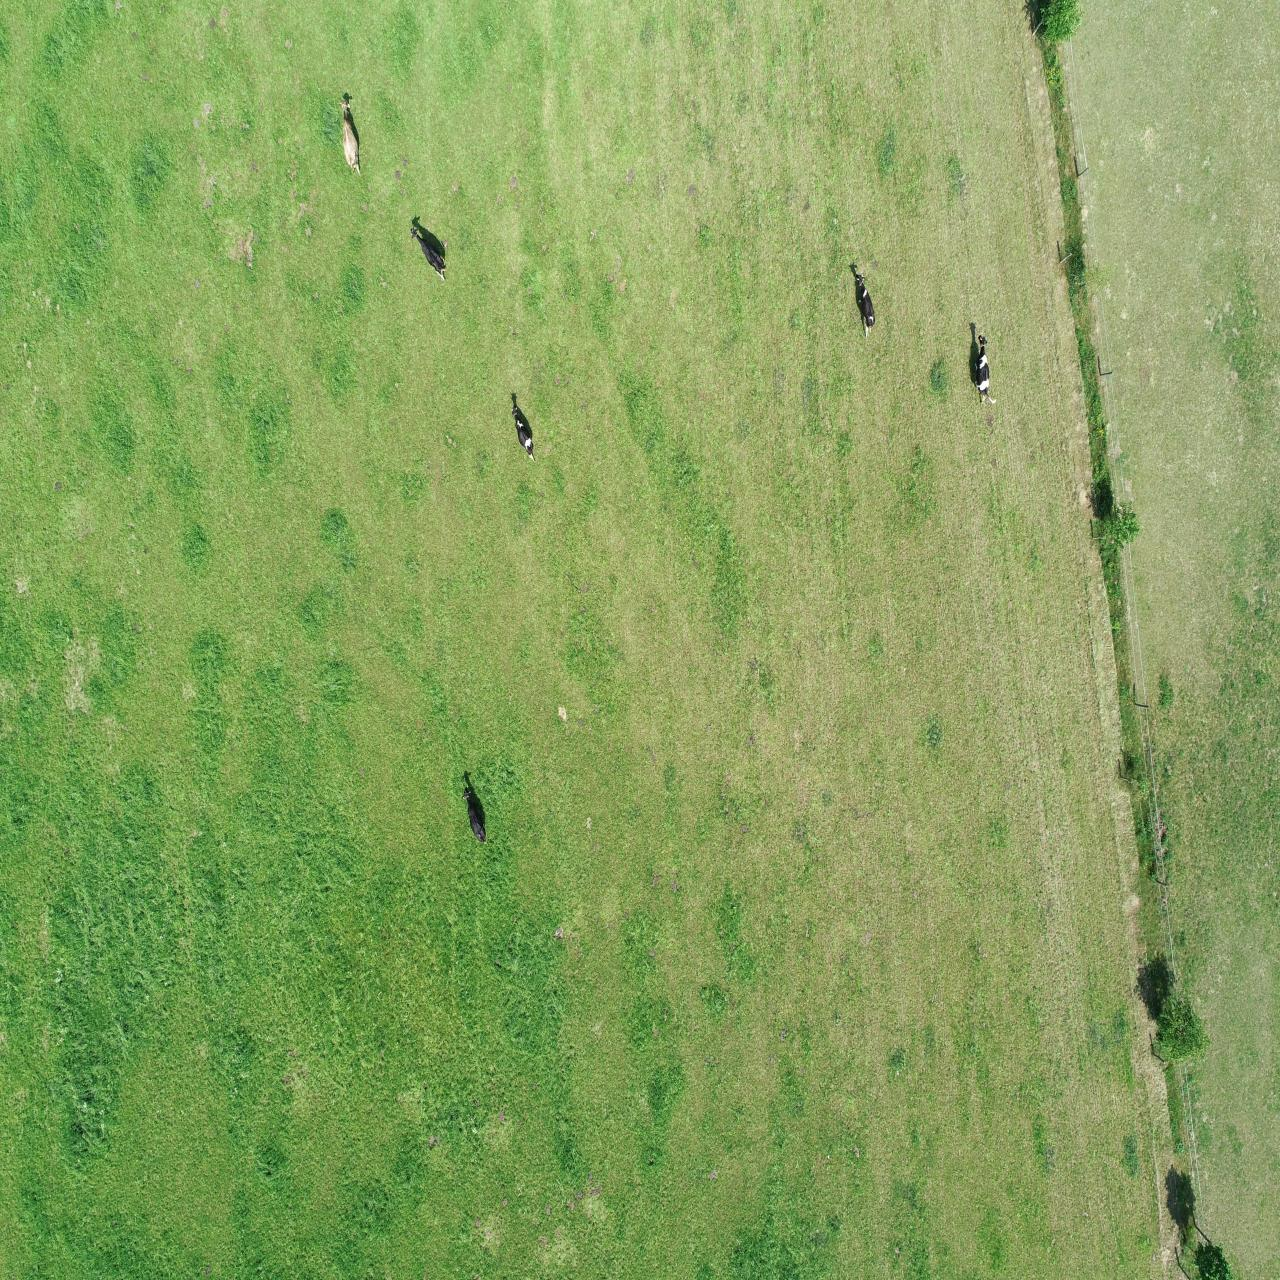cow: (409, 224, 447, 281), (336, 98, 362, 178), (459, 781, 490, 846), (973, 333, 999, 409), (508, 403, 539, 463), (853, 268, 876, 340)
